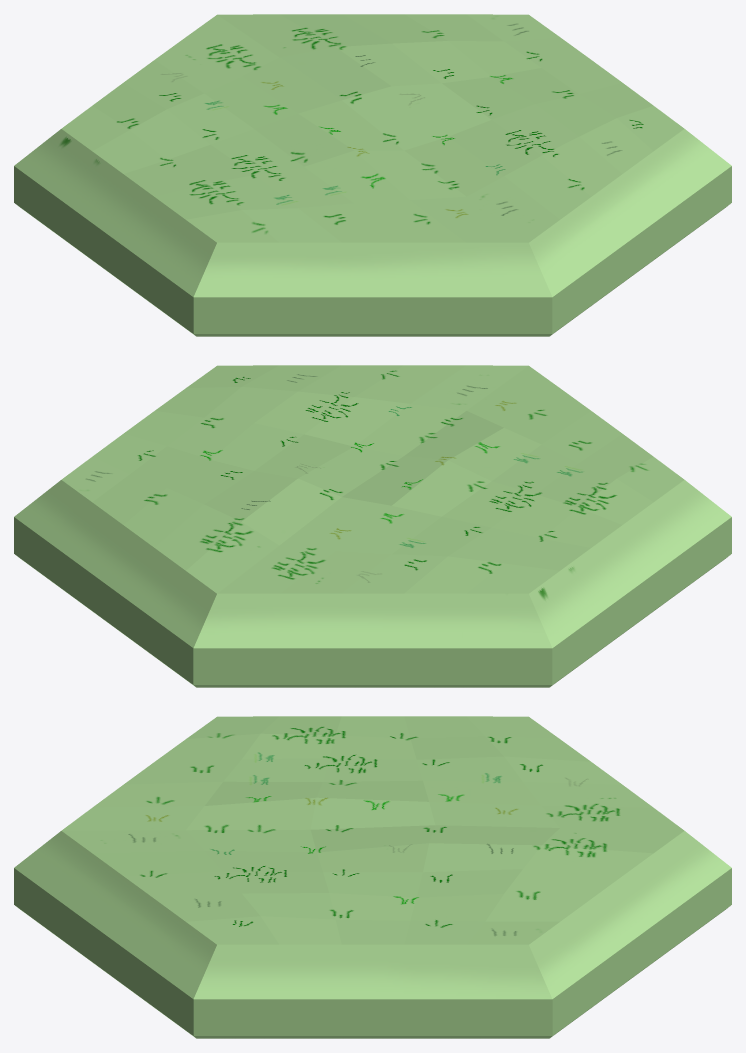
The picture shows the model from 3 angles, top to bottom: view 1: azimuth 30°, elevation 25°; view 2: azimuth 150°, elevation 25°; view 3: azimuth 270°, elevation 25°; orthographic projection.
Visible parts, largest first — view 1: Cylinder; view 2: Cylinder; view 3: Cylinder.
Part boxes in pixels (x1=…): Cylinder: x1=14, y1=14, x2=731, y2=336; Cylinder: x1=14, y1=365, x2=731, y2=687; Cylinder: x1=14, y1=716, x2=731, y2=1038.
Bounding box in the file's own units: 1.73 × 0.2748 × 2.
Materials: 1 (1 with a texture image).
